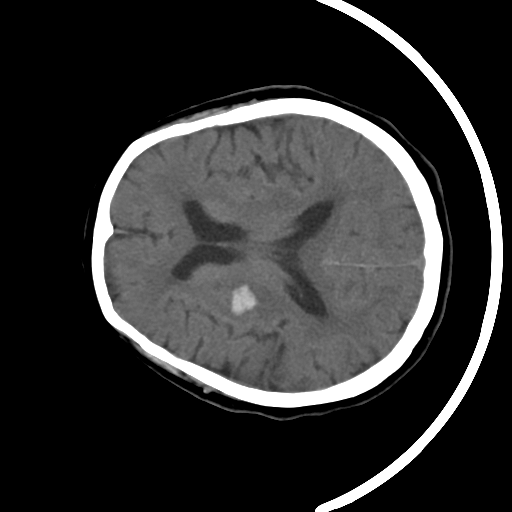a: (212, 272, 285, 329)
